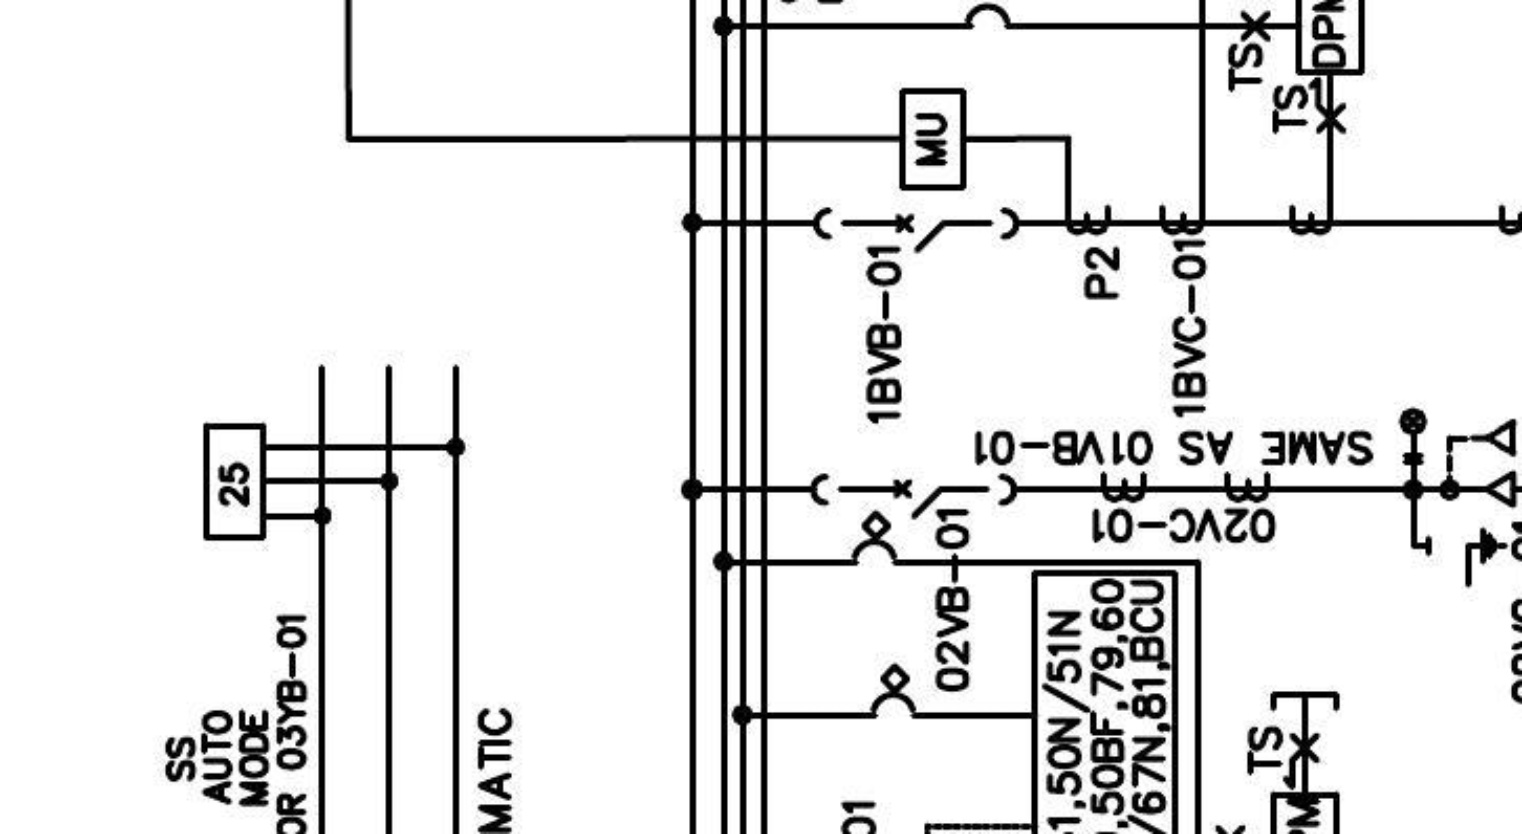22_breaker: (808, 472, 1018, 521), (811, 205, 1021, 254)
22_gs: (1424, 526, 1508, 590)
22_ll: (1397, 407, 1429, 466)
MU: (898, 86, 967, 192)
terminator_w_future: (1445, 417, 1518, 509)
